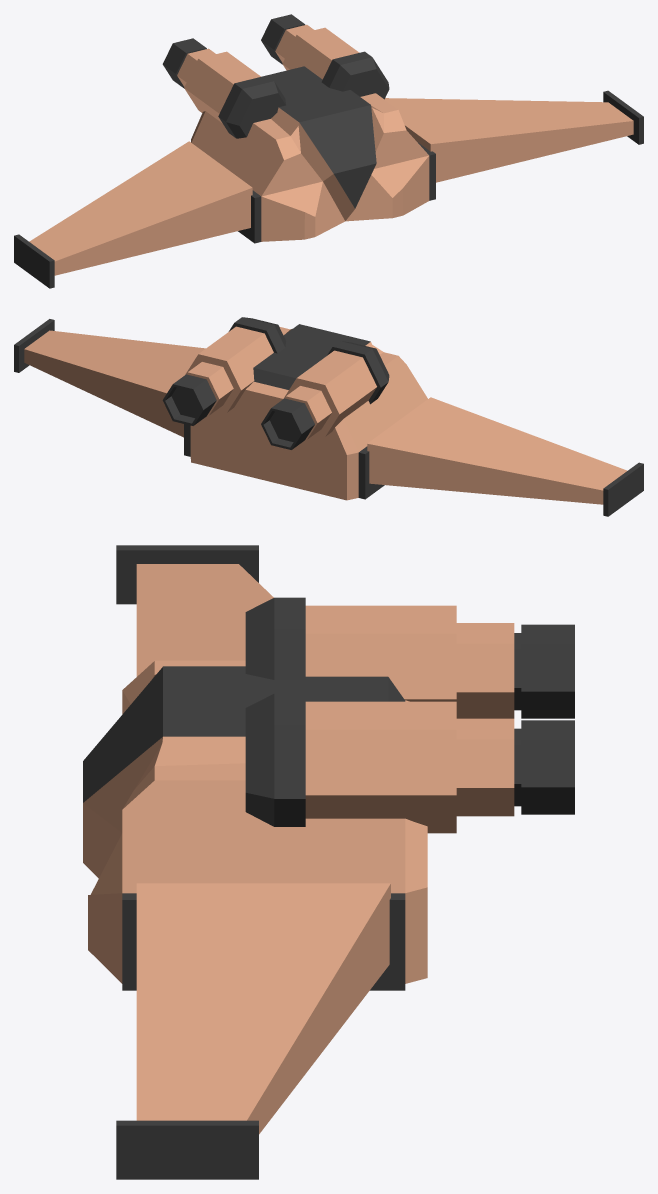
File: Ship4.fbx
The picture shows the model from 3 angles, top to bottom: view 1: azimuth 30°, elevation 25°; view 2: azimuth 150°, elevation 25°; view 3: azimuth 270°, elevation 25°; orthographic projection. The views are drawn at different scales.
Parts seen in each view (by area): view 1: Wing.003, ArmorPlate.003, Jet.003; view 2: Wing.003, ArmorPlate.003, Jet.003; view 3: Wing.003, Jet.003, ArmorPlate.003.
Part boxes in pixels (<box>): Wing.003: <box>14,90,643,288</box>; ArmorPlate.003: <box>191,66,435,243</box>; Jet.003: <box>162,14,389,138</box>; Wing.003: <box>14,319,643,516</box>; ArmorPlate.003: <box>184,324,427,500</box>; Jet.003: <box>162,317,389,449</box>; Wing.003: <box>116,545,390,1179</box>; Jet.003: <box>245,597,574,833</box>; ArmorPlate.003: <box>83,660,427,990</box>.
Size of the model in its own units: 847 by 164 by 304.
